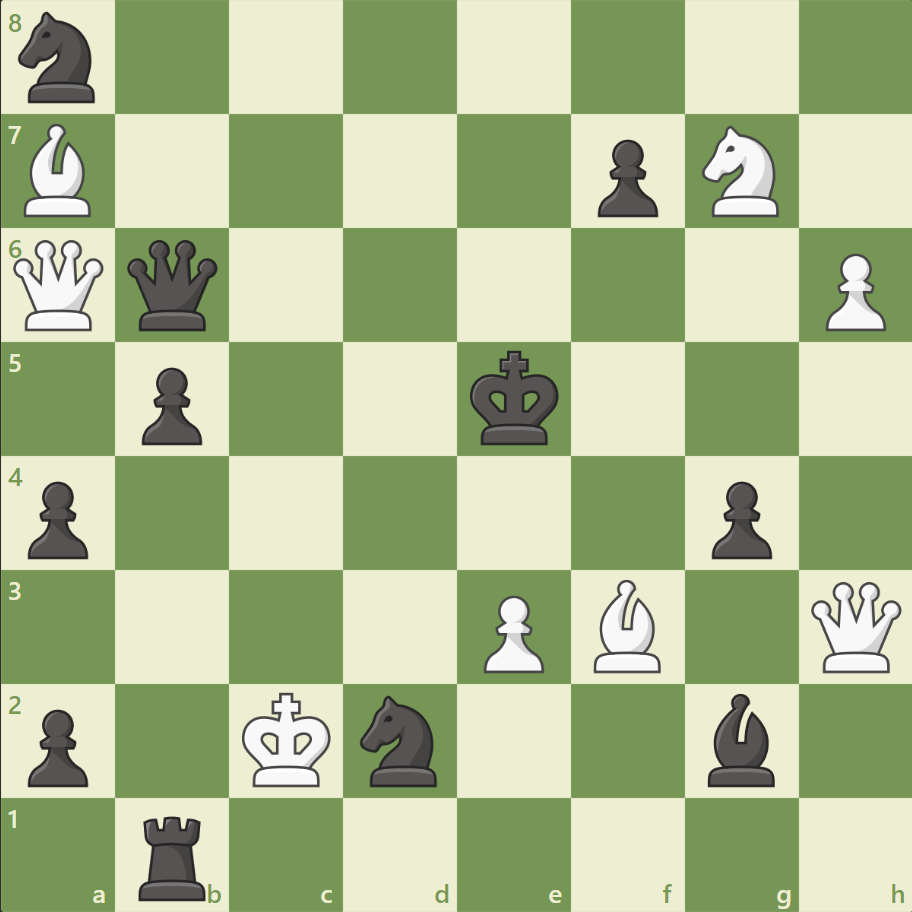B: (17, 120, 101, 222), (585, 574, 669, 676)
K: (238, 685, 338, 793)
N: (692, 121, 789, 223)
P: (474, 586, 549, 677), (815, 246, 889, 337)
Q: (805, 576, 904, 676), (10, 236, 109, 335)
b: (698, 687, 782, 790)
k: (465, 344, 565, 452)
n: (351, 688, 449, 791), (11, 7, 108, 110)
p: (133, 359, 208, 450), (20, 473, 95, 564), (701, 473, 776, 564), (20, 700, 95, 791), (588, 132, 662, 223)
q: (124, 236, 223, 335)
r: (133, 806, 215, 904)
